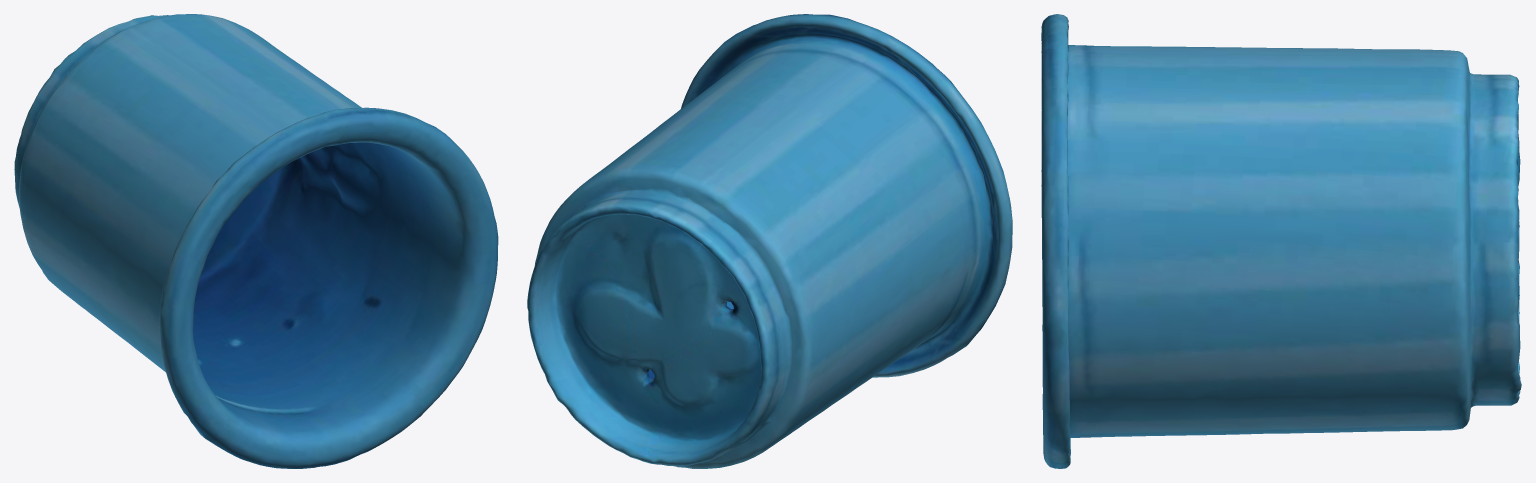
The model's file is ddg-ycb_065-b_cups.glb.
3 views of the same model, side by side, from view 1: azimuth 30°, elevation 25°; view 2: azimuth 150°, elevation 25°; view 3: azimuth 270°, elevation 25° (orthographic). The views are drawn at different scales.
Visible parts, largest first — view 1: textured(Clone); view 2: textured(Clone); view 3: textured(Clone).
Boxes of the visible parts, x1,y1,x2,y2 form: textured(Clone): (14, 14, 498, 468); textured(Clone): (527, 14, 1012, 468); textured(Clone): (1041, 14, 1521, 468).
Bounding box in the file's own units: 1.38 × 1.38 × 1.45.
Materials: 1 (1 with a texture image).
